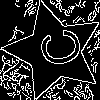C: (29, 25, 84, 72)
